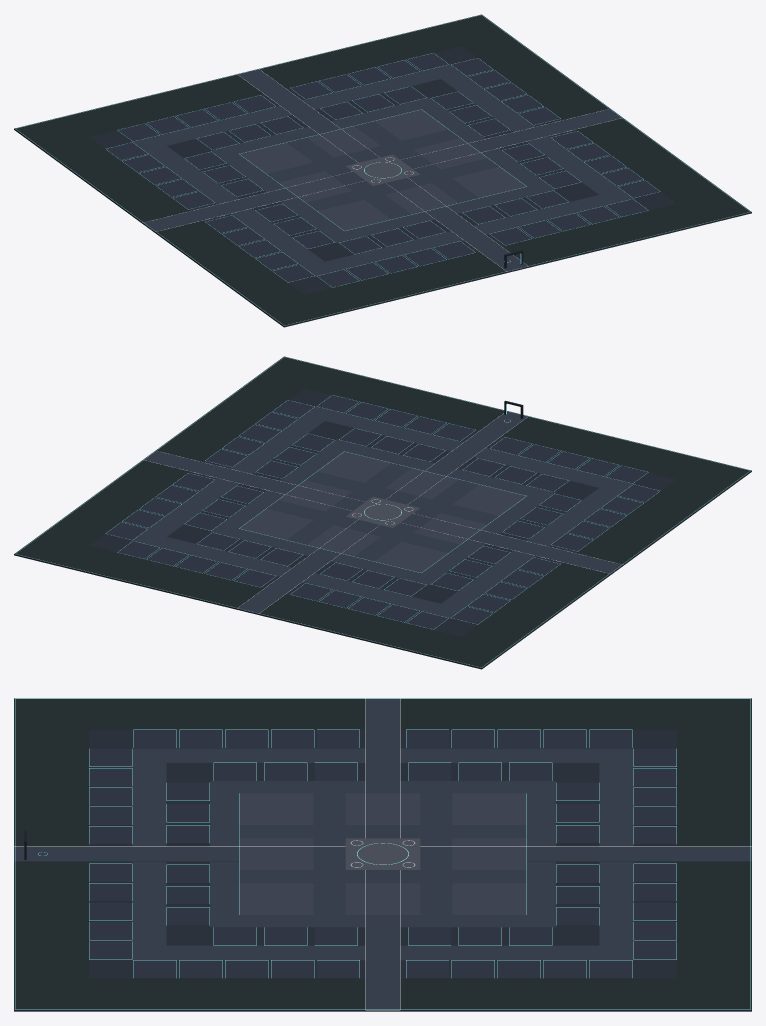
The picture shows the model from 3 angles, top to bottom: view 1: azimuth 30°, elevation 25°; view 2: azimuth 150°, elevation 25°; view 3: azimuth 270°, elevation 25°; orthographic projection. The views are drawn at different scales.
Visible parts, largest first — view 1: district_arcade.lod1; view 2: district_arcade.lod1; view 3: district_arcade.lod1.
Boxes of the visible parts, bbox=[...] form: district_arcade.lod1: bbox=[14, 14, 751, 327]; district_arcade.lod1: bbox=[14, 356, 751, 669]; district_arcade.lod1: bbox=[14, 698, 751, 1011].
Size of the model in its own units: 256 by 7.62 by 256.
